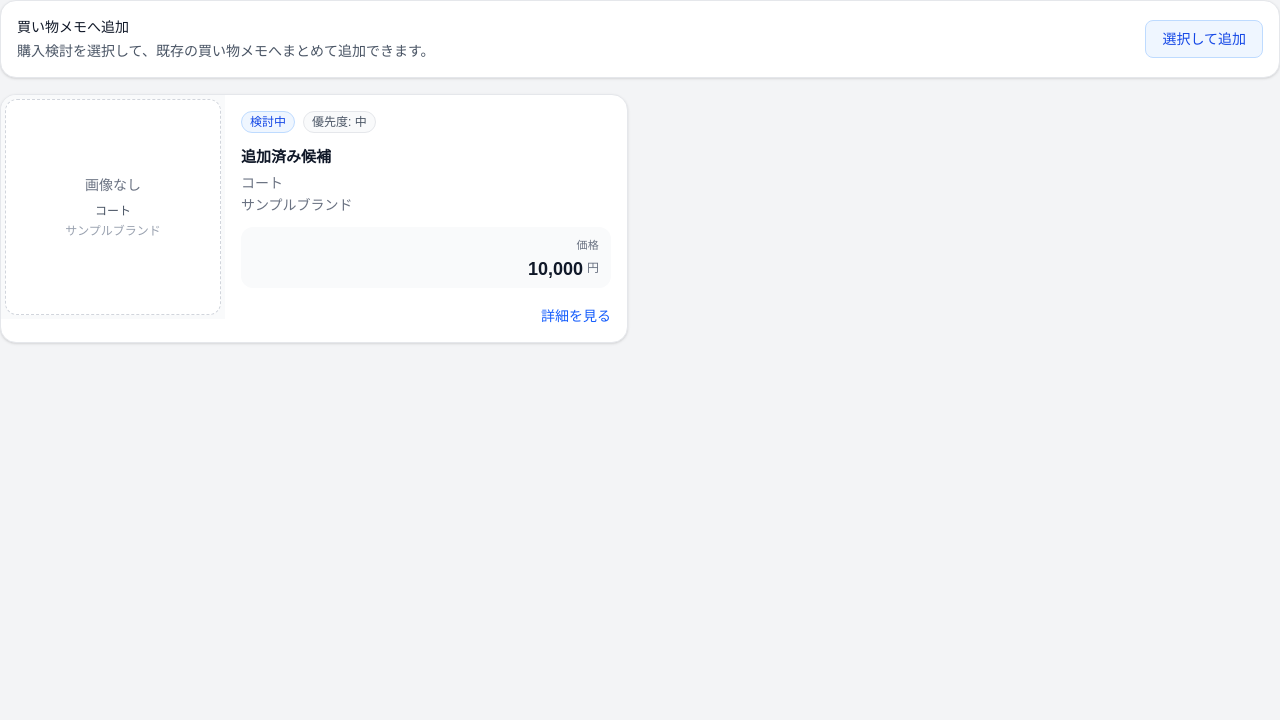
Test: PurchaseCandidateShoppingMemoBulkAdd › 追加済み候補のチェックを外すと解除予定になる
This screenshot has width=1280, height=720.
Click the button "選択して追加" at (1204, 39), box [1145, 20, 1263, 58]
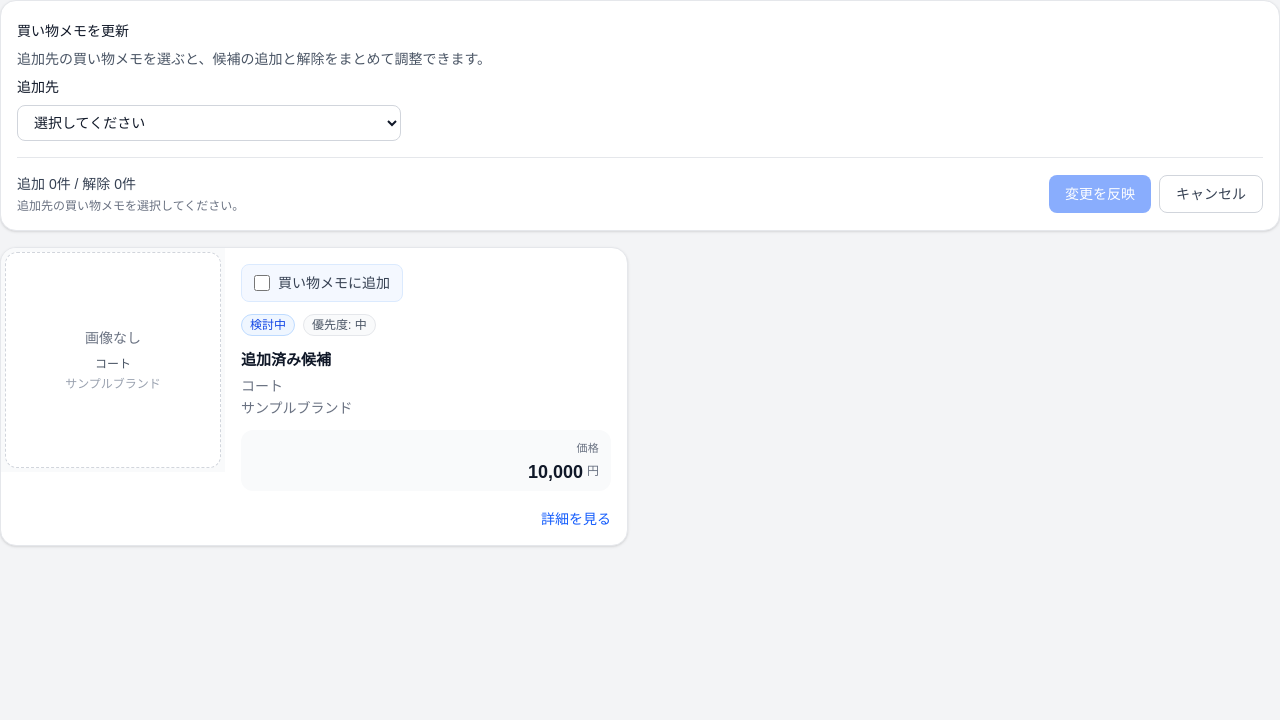
Select "春夏物" in the dropdown labelled "追加先" at (209, 123), box [17, 105, 401, 141]
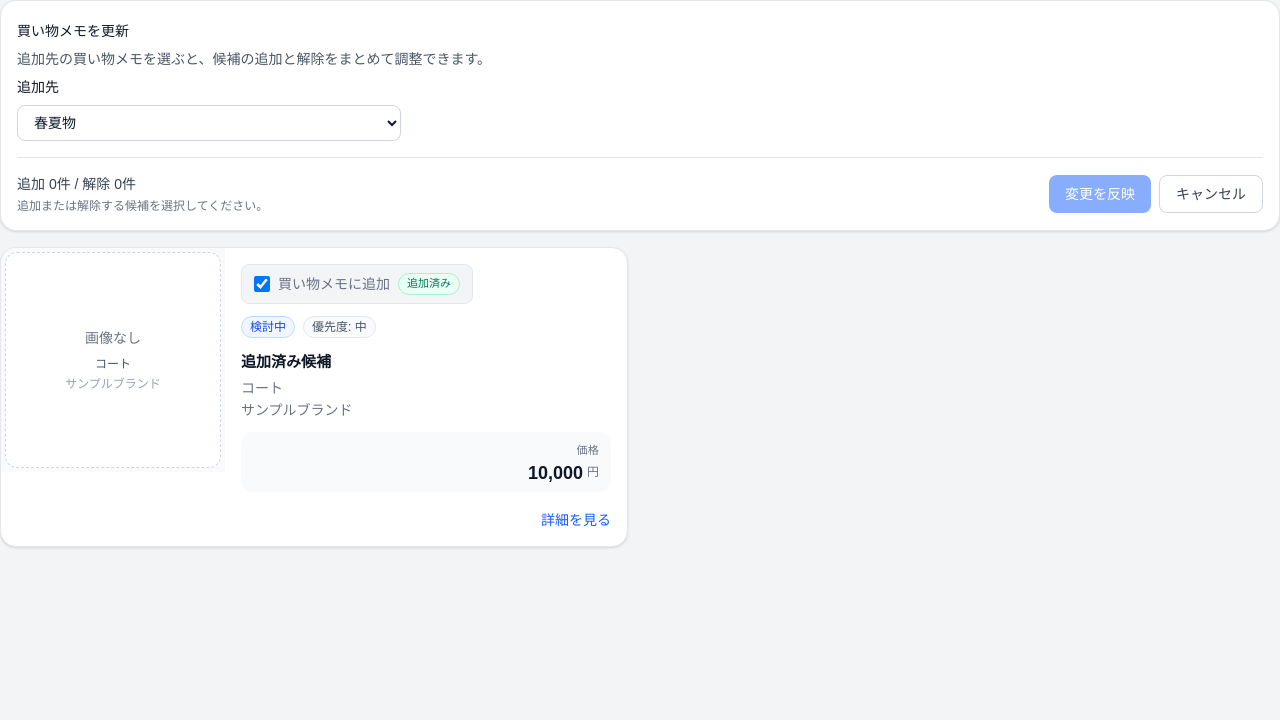
Click the checkbox with test id "purchase-candidate-checkbox-21" at (262, 284), box [254, 276, 270, 292]
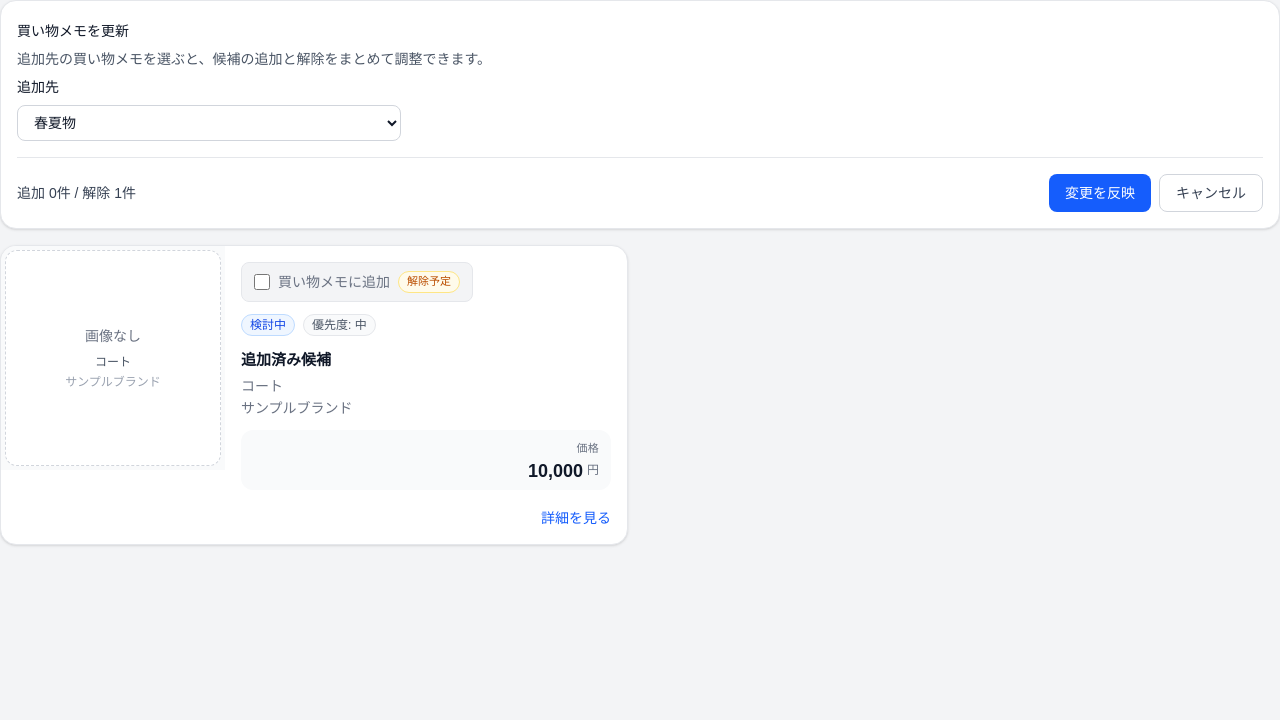
Now the checkbox with test id "purchase-candidate-checkbox-21" is not checked, box [254, 274, 270, 290]
Now the text "解除予定" is shown, box [398, 271, 460, 293]
Now the text "追加 0件 / 解除 1件" is shown, box [17, 183, 136, 203]
